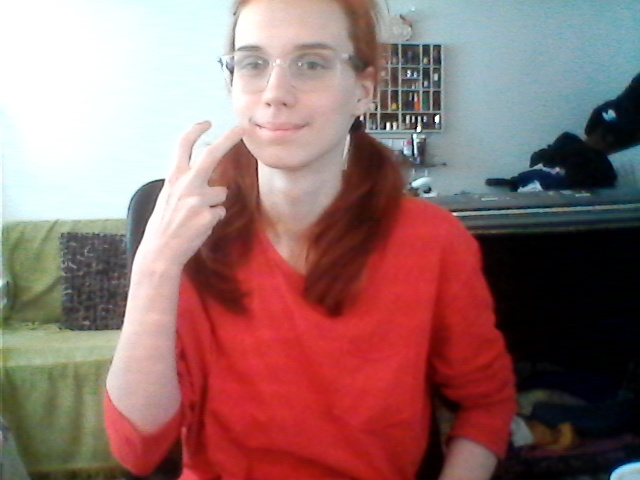usmievat: (152, 113, 317, 221)
